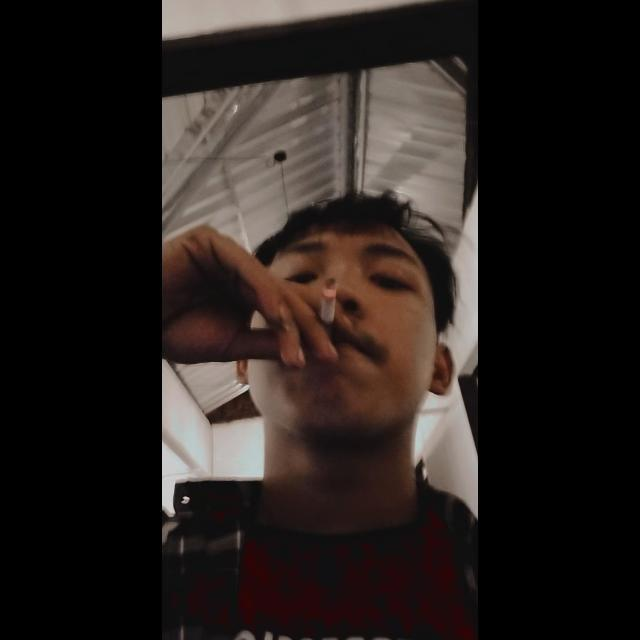rokok: (321, 274, 339, 336)
